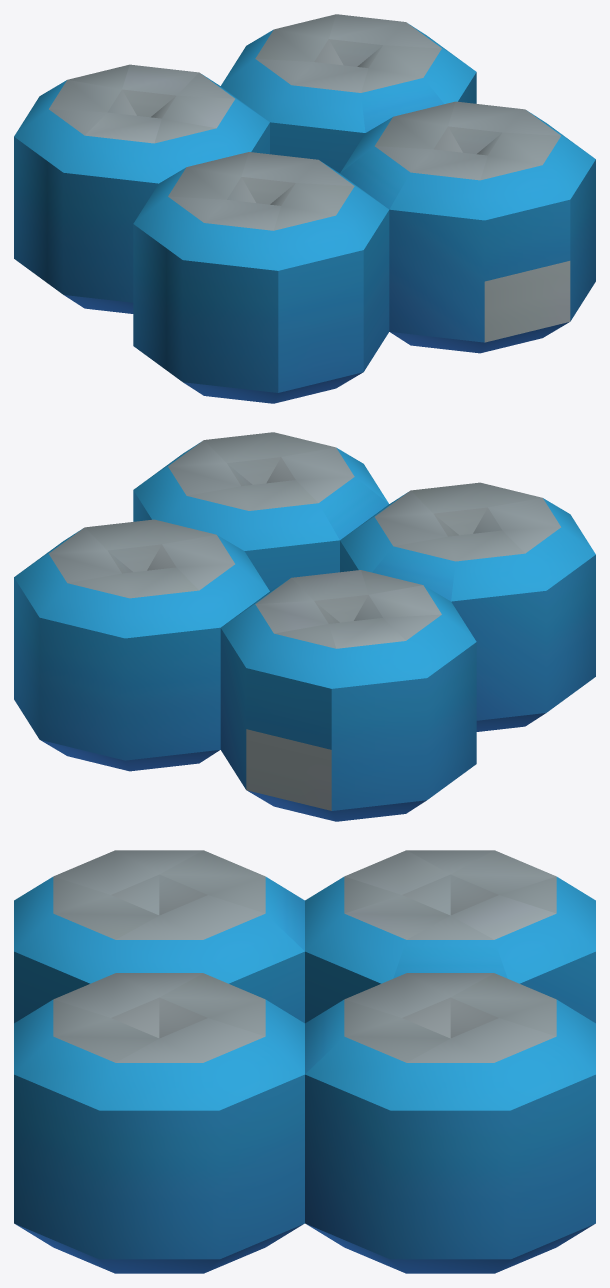
Rendered from kay-conteineres-c.gltf.
3 views of the same model, one above another, from view 1: azimuth 30°, elevation 25°; view 2: azimuth 150°, elevation 25°; view 3: azimuth 270°, elevation 25° (orthographic). The views are drawn at different scales.
Parts seen in each view (by area): view 1: containers_C; view 2: containers_C; view 3: containers_C.
Part boxes in pixels (x1,y1,x2,y2): containers_C: [14, 14, 595, 403]; containers_C: [14, 432, 595, 821]; containers_C: [14, 850, 595, 1273].
Bounding box in the file's own units: 1.3 × 0.5199 × 1.3.
Materials: 1 (1 with a texture image).
